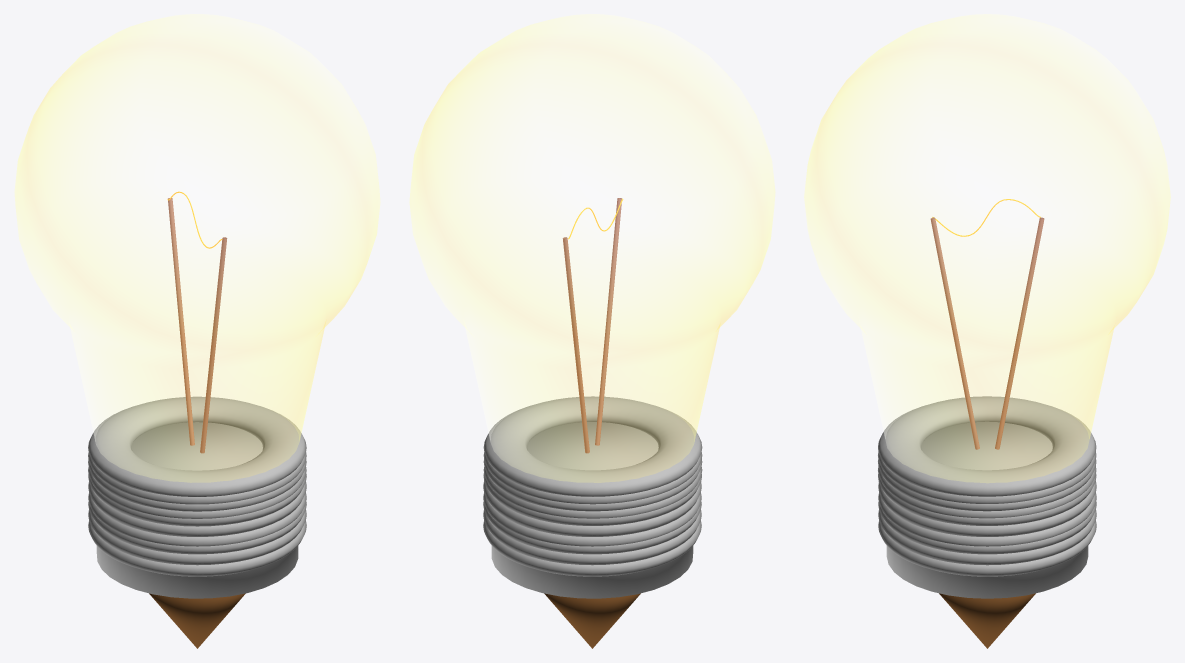
The model's file is light_bulb_36.glb.
3 views of the same model, side by side, from view 1: azimuth 30°, elevation 25°; view 2: azimuth 150°, elevation 25°; view 3: azimuth 270°, elevation 25° (orthographic).
Visible parts, largest first — view 1: 燈罩, 螺旋底座, 金屬座, 銅底座, 支_右, 支_左; view 2: 燈罩, 螺旋底座, 金屬座, 銅底座, 支_左, 支_右; view 3: 燈罩, 螺旋底座, 金屬座, 銅底座, 支_左, 支_右.
Part boxes in pixels (<box>): 燈罩: <box>14,14,380,482</box>; 螺旋底座: <box>88,396,306,576</box>; 金屬座: <box>96,422,298,598</box>; 銅底座: <box>149,593,245,648</box>; 支_右: <box>168,198,194,445</box>; 支_左: <box>200,237,227,453</box>; 燈罩: <box>409,14,775,482</box>; 螺旋底座: <box>483,396,702,576</box>; 金屬座: <box>491,422,693,598</box>; 銅底座: <box>544,593,640,648</box>; 支_左: <box>595,198,621,445</box>; 支_右: <box>562,237,589,453</box>; 燈罩: <box>804,14,1170,482</box>; 螺旋底座: <box>878,396,1096,576</box>; 金屬座: <box>886,421,1088,598</box>; 銅底座: <box>939,593,1035,648</box>; 支_左: <box>930,217,979,449</box>; 支_右: <box>995,217,1044,449</box>.
Bounding box in the file's own units: 11.39 × 21.17 × 11.39.
